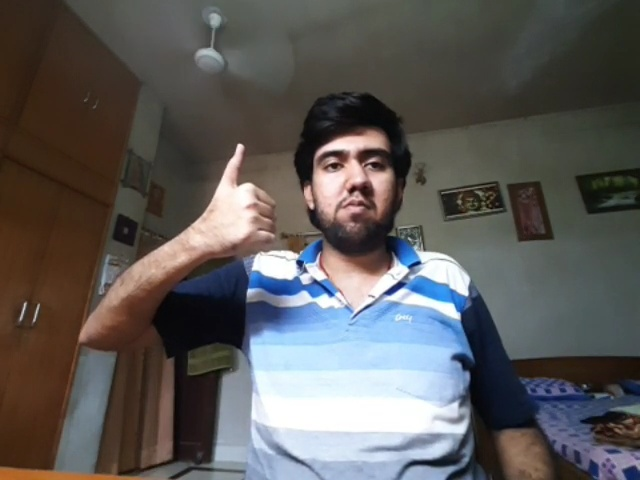Ok: (212, 143, 277, 247)
